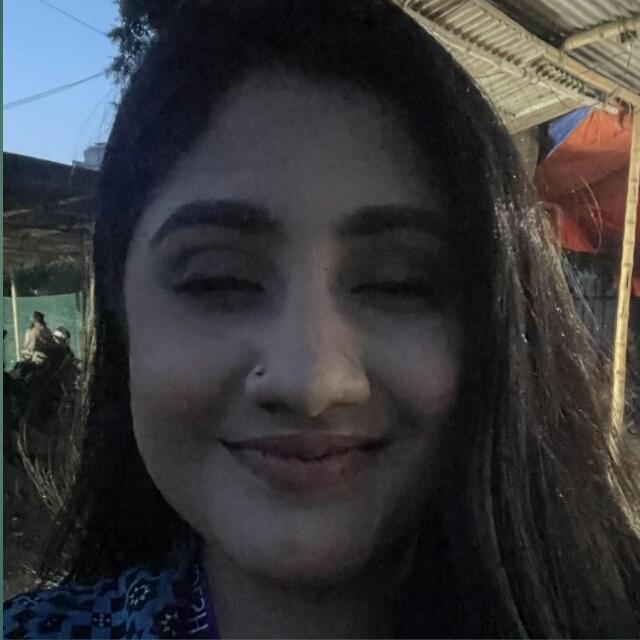Happy: (110, 159, 504, 531)
